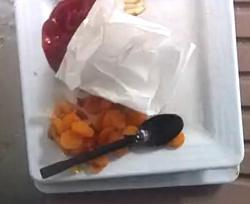carrots: (49, 94, 146, 154), (168, 132, 185, 147)
